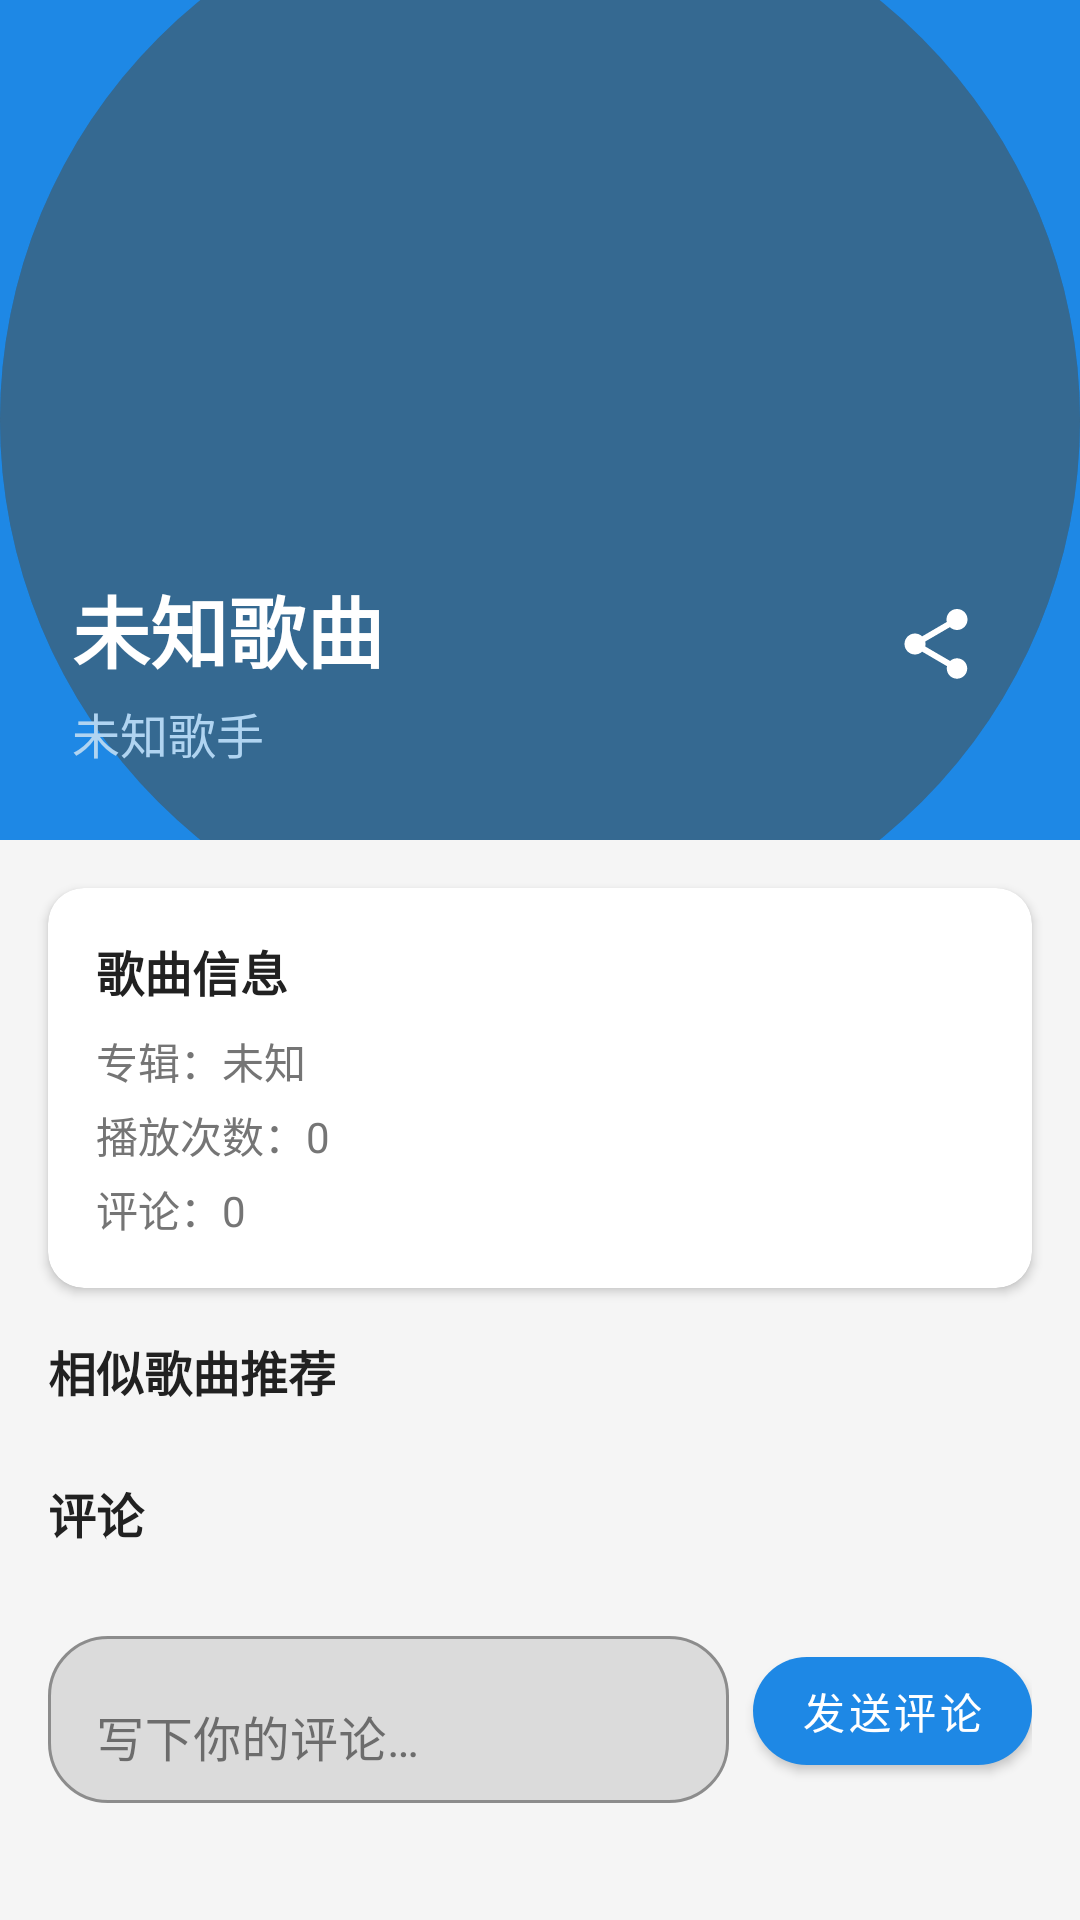

Locate icon controls on the screen. Image size 1080px×1920px, boxes as (x1, y1, x2, y2).
share: (904, 609, 968, 679)
